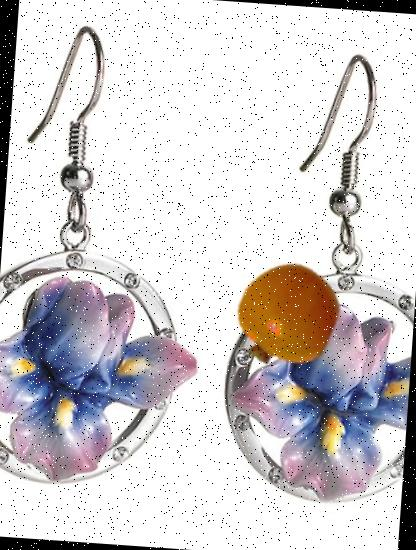Physalis: (229, 257, 345, 373)
